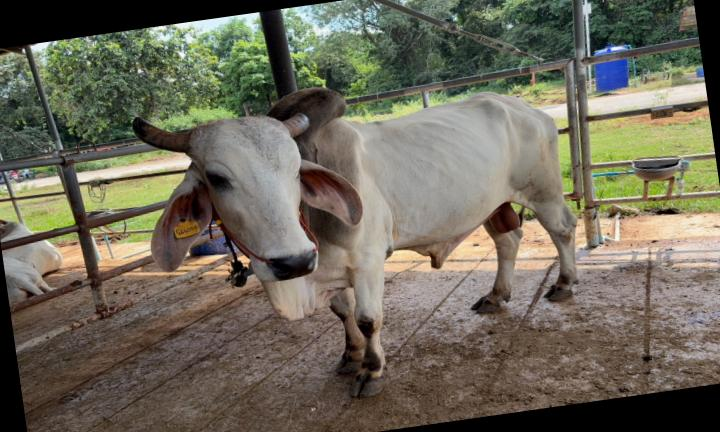Brahman: (132, 88, 577, 396)
